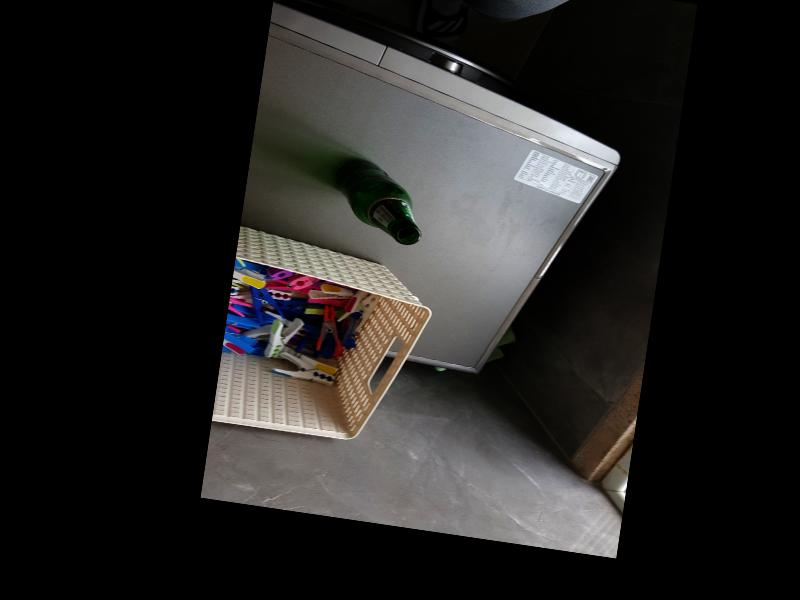Beer: (328, 155, 431, 245)
